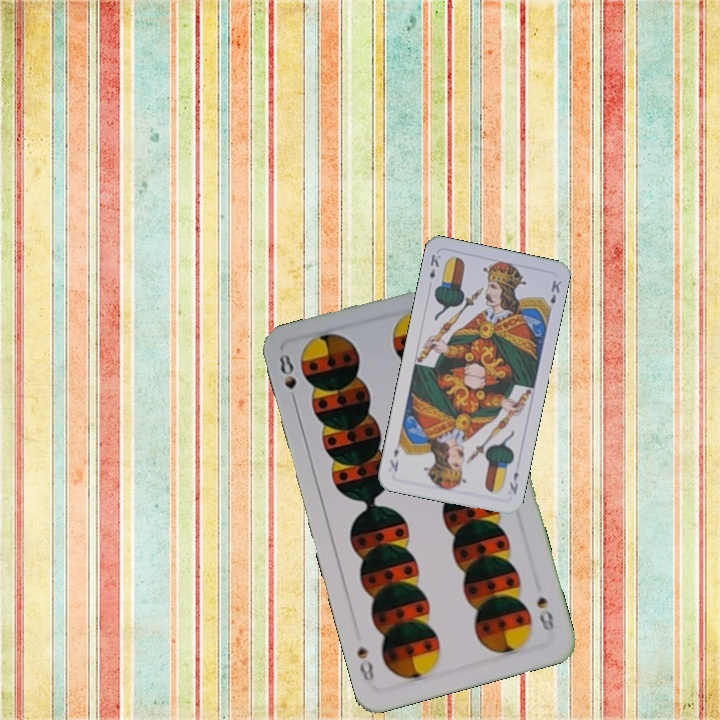EK: (425, 250, 443, 282), (505, 468, 521, 497)
S8: (275, 349, 299, 392), (532, 592, 557, 633)
